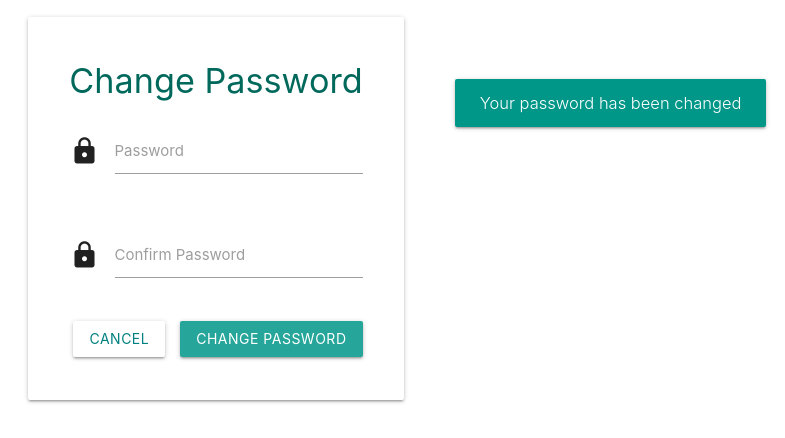
ChangePassword Form › displays a message if the password is not changed
Type "correctpassword" into the password field labelled "Password" at (238, 151), box top-left (114, 128), bottom-right (362, 174)
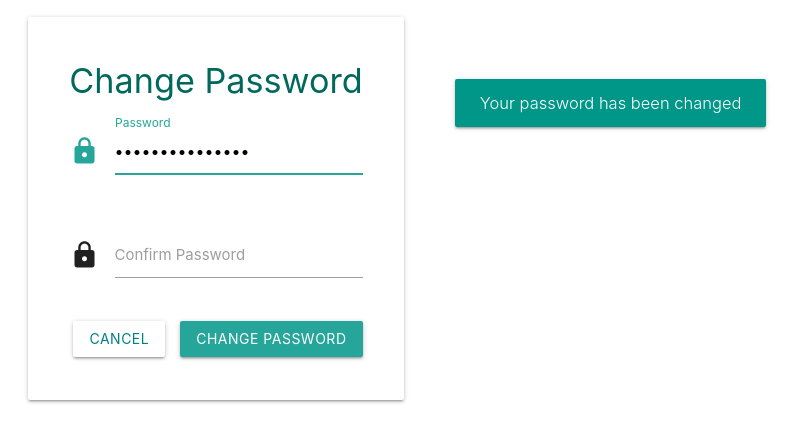
Type "correctpassword" into the password field labelled "Confirm Password" at (238, 255), box top-left (114, 232), bottom-right (362, 278)
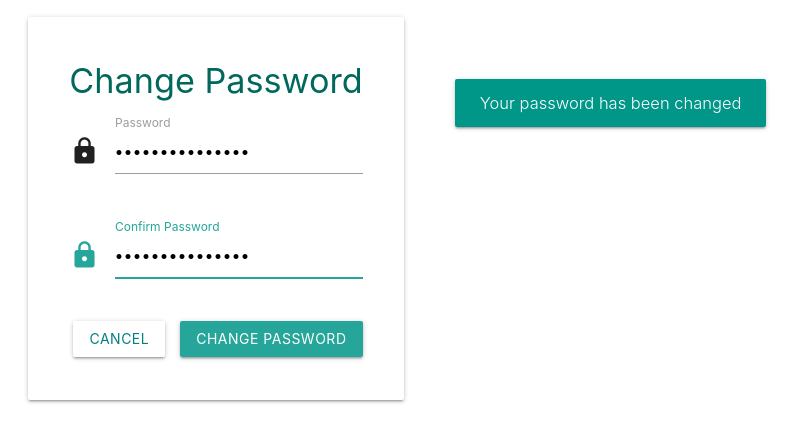
Click the button with test id "submit-btn" at (271, 339), box top-left (180, 321), bottom-right (362, 357)
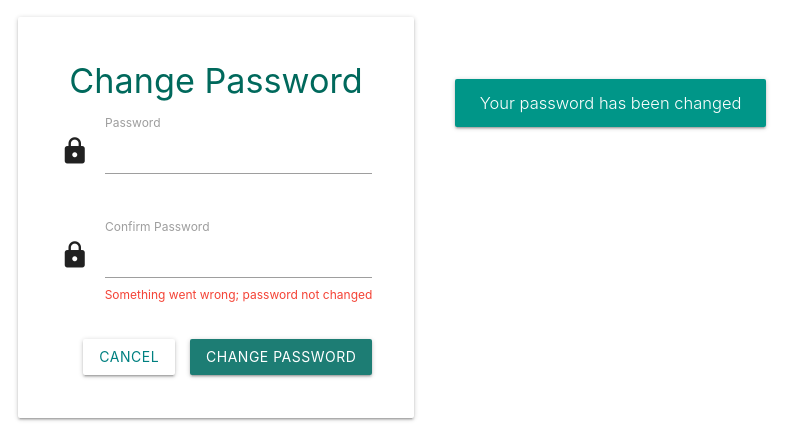
Expected: the text "Something went wrong; password not changed" is shown, top-left (105, 286), bottom-right (372, 304)
